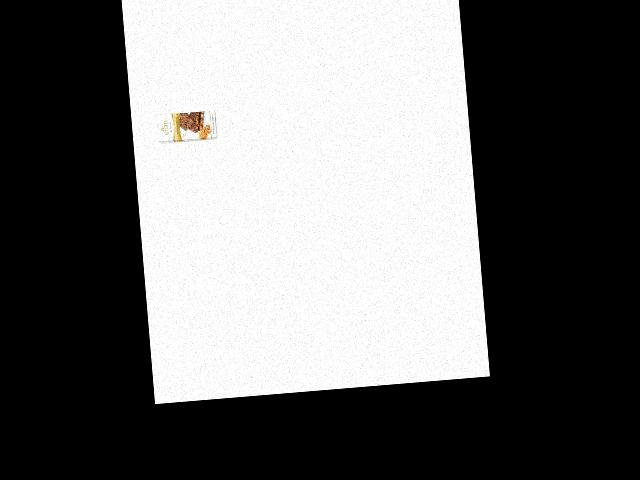chocolate: (154, 109, 219, 145)
